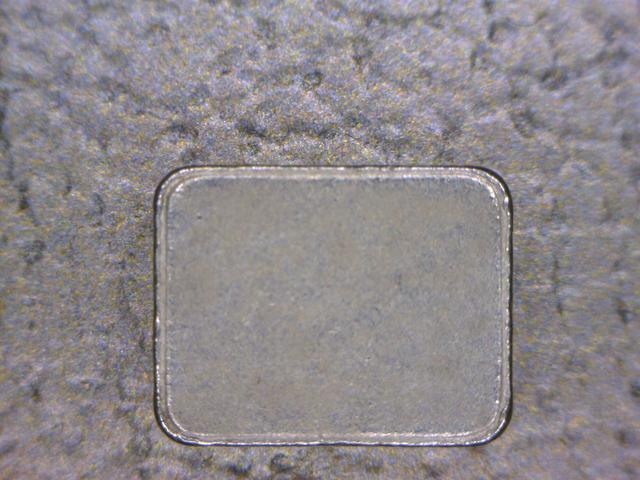nok: (145, 162, 522, 450)
